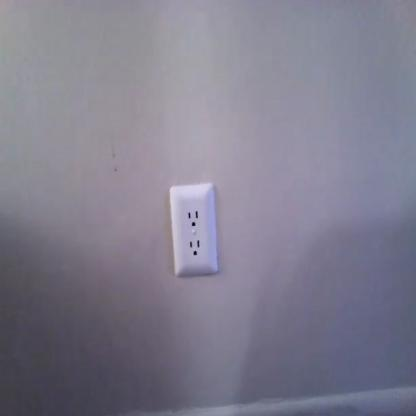OUTLET: (168, 185, 220, 277)
